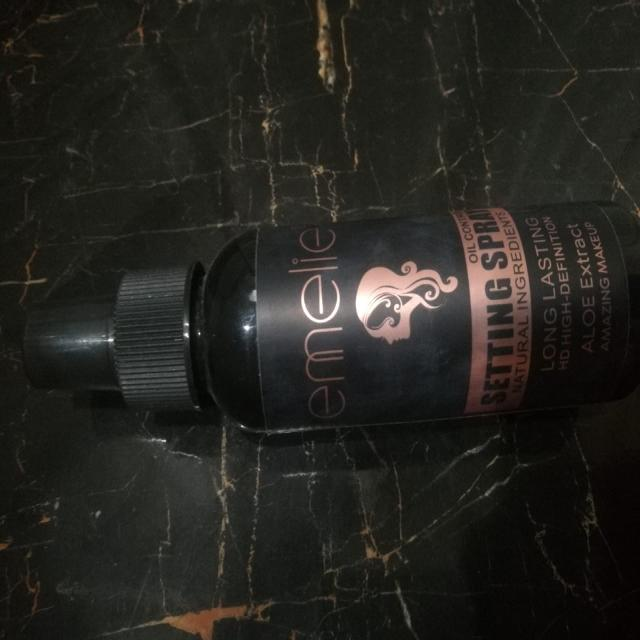setting spray: (11, 185, 640, 438)
